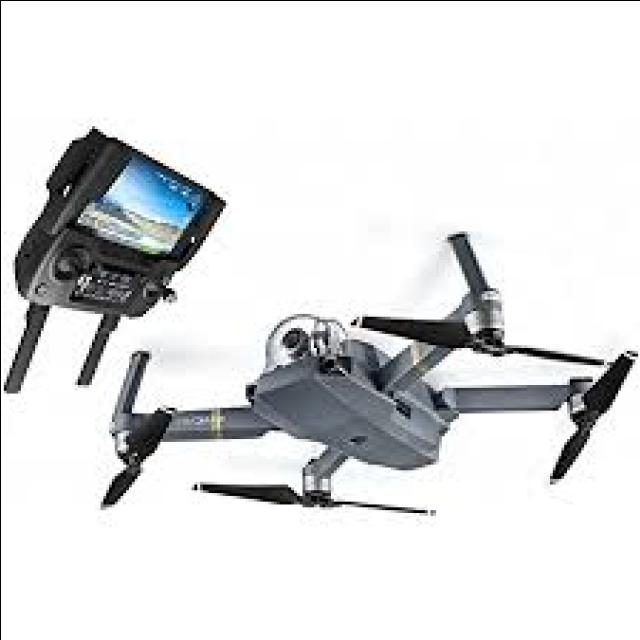drone: (88, 213, 640, 538)
